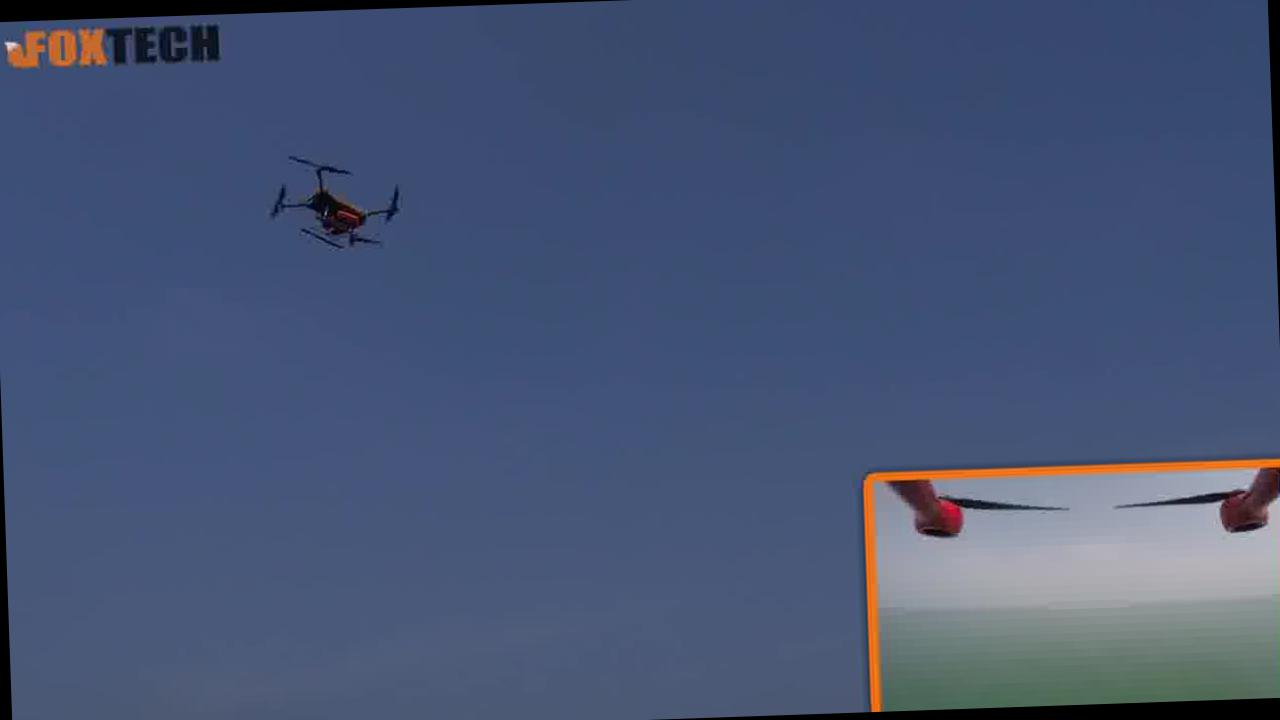drone: (244, 154, 428, 256)
